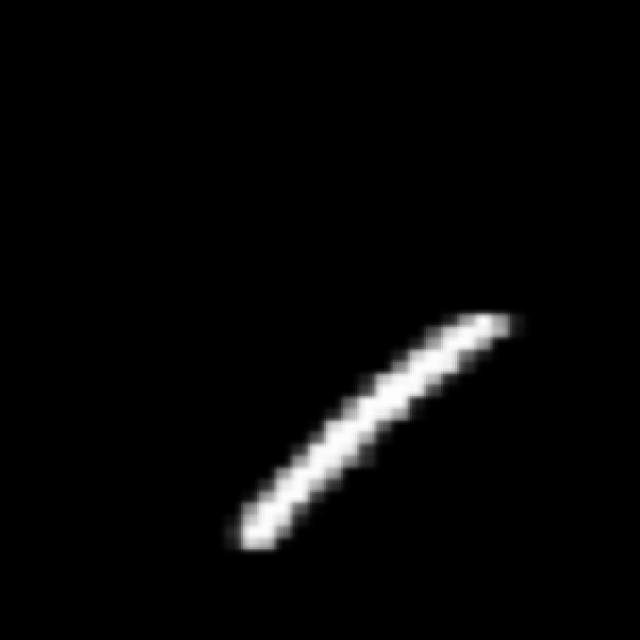one -1-: (224, 296, 529, 567)
